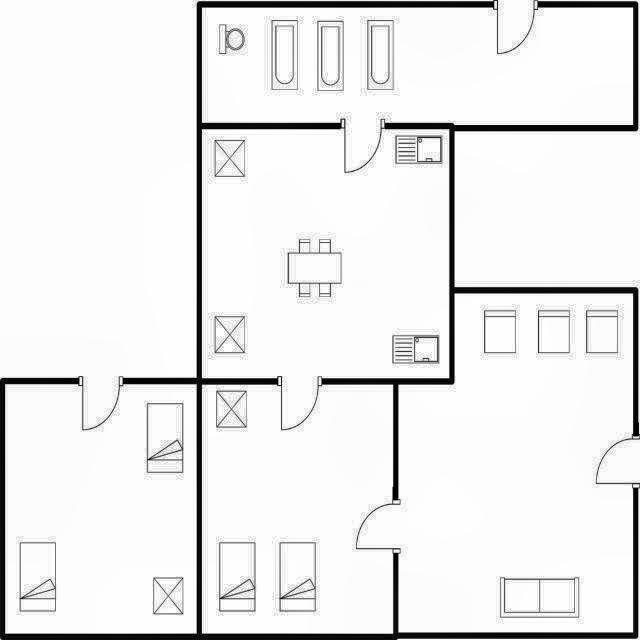room: (399, 294, 633, 633), (202, 129, 449, 378), (202, 7, 633, 123), (5, 384, 197, 634), (202, 385, 393, 634)
